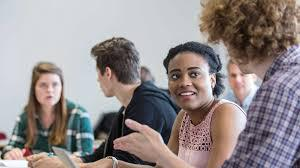Person: (216, 1, 300, 162), (84, 45, 169, 167), (162, 58, 235, 168), (9, 61, 87, 155)
